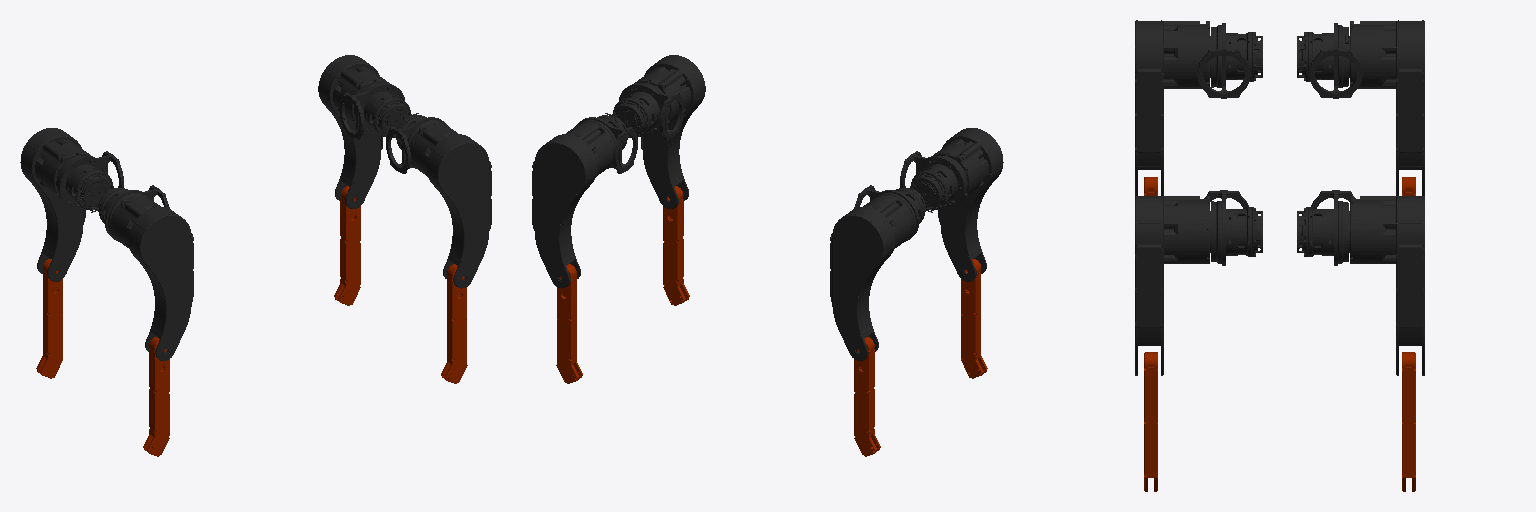
robot.urdf — tekirV3:
<?xml version="1.0" encoding="utf-8"?>
<!-- All knees looks in the same direction -->
<robot name="tekirV3">

  <material name="black">
    <color rgba="0.2 0.2 0.2 1"/>
  </material>
  <material name="auburn" >
    <color rgba="0.6039215686274509 0.18823529411764706 0.00392156862745098 1" />
  </material>
  <material name="olivedrab" >
    <color rgba="0.43529411764705883 0.4627450980392157 0.19607843137254902 1" />
  </material>
  
  <link name="torso">
	  <inertial>
     <origin xyz="0.00145 0.003271 0.01792" rpy="0 0 0"/>  <!-- 0.00145 0.003271 0.01792 -->
     <mass value="20.516"/>
     <inertia ixx="0.41"  ixy="0.003"  ixz="-0.012" iyy="0.908" iyz="0.007" izz="1.192" />
    </inertial>
    <visual>
     <origin xyz="0 0 0" rpy="0 0 0" />
     <geometry>
      <mesh filename="../mesh/torso_rs.stl" scale="0.001 0.001 0.001"/>
     </geometry>
     <material name="black"></material>
    </visual>
    <collision>
     <origin xyz="0 0 0" rpy="0 0 0"/>
     <geometry>
       <box size="0.576 0.358 0.202"/>
     </geometry>
    </collision> 
  </link>

  <!-- Leg LF -->

  <link name="HIP_FE_Motor_lf">
	  <inertial>
     <origin xyz="0.075283 -0.015862 -0.000015" rpy="0 0 0"/>
     <mass value="1.681"/>
     <inertia ixx="0.003"  ixy="9.851e-5"  ixz="-1.213e-6" iyy="0.003" iyz="-1.327e-6" izz="0.003" />
    </inertial>
	  <visual>
     <origin xyz="0.079 0 0" rpy="0 0 1.57079632679" />
     <geometry>
       <mesh filename="../mesh/actuator_hip_fe.stl" scale="0.001 0.001 0.001"/>
     </geometry>
     <material name="black"></material>
    </visual>
	  <collision>
     <origin xyz="0.079 -0.0264 0" rpy="1.57079632679 0 0"/>
     <geometry>
       <cylinder radius="0.0625" length="0.1052"/>
     </geometry>
    </collision>
  </link>

  <link name="thigh_lf">
	  <inertial>
     <origin xyz="-0.003917 0.076506 -0.013793" rpy="0 0 0"/>
     <mass value="2.005"/>
     <inertia ixx="0.008"  ixy="-1.818e-4"  ixz="5.307e-4" iyy="0.007" iyz="0.001" izz="0.004" />
    </inertial>
	  <visual>
     <origin xyz="0 0 0" rpy="0 0 0" />
     <geometry>
       <mesh filename="../mesh/thigh_L.stl" scale="0.001 0.001 0.001"/>
     </geometry>
     <material name="black"></material>
    </visual>
	  <collision>
     <origin xyz="0 0.1136015 -0.135" rpy="0 0 0"/>
     <geometry>
       <box size="0.04 0.053203 0.27"/>
     </geometry>
    </collision>
  </link>

  <link name="shank_lf">
	  <inertial>
     <origin xyz="-0.015346 -0.000102 -0.186842" rpy="0 0 0"/>
     <mass value="0.21"/>
     <inertia ixx="0.002"  ixy="-7.048e-7"  ixz="-2.682e-4" iyy="0.002" iyz="-1.088e-5" izz="1.086e-4" />
    </inertial>
	  <visual>
     <origin xyz="0 0 0" rpy="0 0 1.57079632679" />
     <geometry>
       <mesh filename="../mesh/shank.stl" scale="0.001 0.001 0.001"/>
     </geometry>
     <material name="auburn"></material>
    </visual>
	  <collision>
     <origin xyz="0 0 -0.112141" rpy="0 0 0"/>
     <geometry>
       <box size="0.04 0.026 0.224282"/> 
     </geometry>
    </collision>
    <visual>
     <origin xyz="-0.0219665 0 -0.262329" rpy="0 0.52359877559 0" />
     <geometry>
       <mesh filename="../mesh/foot.stl" scale="0.001 0.001 0.001"/>
     </geometry>
     <material name="black"></material>
    </visual>
    <collision>
     <origin xyz="-0.0400655 0 -0.293677" rpy="0 0 0"/>
     <geometry>
       <sphere radius="0.027"/>
     </geometry>
    </collision>
  </link>

  <!-- Leg RF -->

  <link name="HIP_FE_Motor_rf">
	  <inertial>
     <origin xyz="0.075283 0.015862 -0.000015" rpy="0 0 0"/>
     <mass value="1.681"/>
     <inertia ixx="0.003"  ixy="9.851e-5"  ixz="-1.213e-6" iyy="0.003" iyz="-1.327e-6" izz="0.003" />
    </inertial>
	  <visual>
     <origin xyz="0.079 0 0" rpy="3.14159265 0 -1.57079632679" />
     <geometry>
       <mesh filename="../mesh/actuator_hip_fe.stl" scale="0.001 0.001 0.001"/>
     </geometry>
     <material name="black"></material>
    </visual>
	  <collision>
     <origin xyz="0.079 0.0264 0" rpy="1.57079632679 0 0"/>
     <geometry>
       <cylinder radius="0.0625" length="0.1052"/>
     </geometry>
    </collision>
  </link>

  <link name="thigh_rf">
	  <inertial>
     <origin xyz="-0.003917 -0.076506 -0.013793" rpy="0 0 0"/>
     <mass value="2.005"/>
     <inertia ixx="0.008"  ixy="-1.818e-4"  ixz="5.307e-4" iyy="0.007" iyz="0.001" izz="0.004" />
    </inertial>
	  <visual>
     <origin xyz="0 0 0" rpy="0 0 0" />
     <geometry>
       <mesh filename="../mesh/thigh_R.stl" scale="0.001 0.001 0.001"/>
     </geometry>
     <material name="black"></material>
    </visual>
	  <collision>
     <origin xyz="0 -0.1136015 -0.135" rpy="0 0 0"/>
     <geometry>
       <box size="0.04 0.053203 0.27"/>
     </geometry>
    </collision>
  </link>

  <link name="shank_rf">
	  <inertial>
     <origin xyz="-0.015346 0.000102 -0.186842" rpy="0 0 0"/>
     <mass value="0.21"/>
     <inertia ixx="0.002"  ixy="-7.048e-7"  ixz="-2.682e-4" iyy="0.002" iyz="-1.088e-5" izz="1.086e-4" />
    </inertial>
	  <visual>
     <origin xyz="0 0 0" rpy="0 0 1.57079632679" />
     <geometry>
       <mesh filename="../mesh/shank.stl" scale="0.001 0.001 0.001"/>
     </geometry>
     <material name="auburn"></material>
    </visual>
	  <collision>
     <origin xyz="0 0 -0.112141" rpy="0 0 0"/>
     <geometry>
       <box size="0.04 0.026 0.224282"/>
     </geometry>
    </collision>
    <visual>
     <origin xyz="-0.0219665 0 -0.262329" rpy="0 0.52359877559 0" />
     <geometry>
       <mesh filename="../mesh/foot.stl" scale="0.001 0.001 0.001"/>
     </geometry>
     <material name="black"></material>
    </visual>
    <collision>
     <origin xyz="-0.0400655 0 -0.293677" rpy="0 0 0"/>
     <geometry>
       <sphere radius="0.027"/>
     </geometry>
    </collision>
  </link>

  <!-- Leg LB -->

  <link name="HIP_FE_Motor_lb">
	  <inertial>
     <origin xyz="-0.075283 -0.015862 -0.000015" rpy="0 0 0"/>
     <mass value="1.681"/>
     <inertia ixx="0.003"  ixy="9.851e-5"  ixz="-1.213e-6" iyy="0.003" iyz="-1.327e-6" izz="0.003" />
    </inertial>
	  <visual>
     <origin xyz="-0.079 0 0" rpy="0 3.14159265 -1.57079632679" />
     <geometry>
       <mesh filename="../mesh/actuator_hip_fe.stl" scale="0.001 0.001 0.001"/>
     </geometry>
     <material name="black"></material>
    </visual>
	  <collision>
     <origin xyz="-0.079 -0.0264 0" rpy="1.57079632679 0 0"/>
     <geometry>
       <cylinder radius="0.0625" length="0.1052"/>
     </geometry>
    </collision>
  </link>

  <link name="thigh_lb">
	  <inertial>
     <origin xyz="0.003917 0.076506 -0.013793" rpy="0 0 0"/>
     <mass value="2.005"/>
     <inertia ixx="0.008"  ixy="-1.818e-4"  ixz="5.307e-4" iyy="0.007" iyz="0.001" izz="0.004" />
    </inertial>
	  <visual>
     <origin xyz="0 0 0" rpy="0 0 0" />
     <geometry>
       <mesh filename="../mesh/thigh_L.stl" scale="0.001 0.001 0.001"/>
     </geometry>
     <material name="black"></material>
    </visual>
	  <collision>
     <origin xyz="0 0.1136015 -0.135" rpy="0 0 0"/>
     <geometry>
       <box size="0.04 0.053203 0.27"/>
     </geometry>
    </collision>
  </link>

  <link name="shank_lb">
	  <inertial>
     <origin xyz="-0.015346 -0.000102 -0.186842" rpy="0 0 0"/>
     <mass value="0.21"/>
     <inertia ixx="0.002"  ixy="-7.048e-7"  ixz="-2.682e-4" iyy="0.002" iyz="-1.088e-5" izz="1.086e-4" />
    </inertial>
	  <visual>
     <origin xyz="0 0 0" rpy="0 0 1.57079632679" />
     <geometry>
       <mesh filename="../mesh/shank.stl" scale="0.001 0.001 0.001"/>
     </geometry>
     <material name="auburn"></material>
    </visual>
	  <collision>
     <origin xyz="0 0 -0.112141" rpy="0 0 0"/>
     <geometry>
       <box size="0.04 0.026 0.224282"/>
     </geometry>
    </collision>
    <visual>
     <origin xyz="-0.0219665 0 -0.262329" rpy="0 0.52359877559 0" />
     <geometry>
       <mesh filename="../mesh/foot.stl" scale="0.001 0.001 0.001"/>
     </geometry>
     <material name="black"></material>
    </visual>
    <collision>
     <origin xyz="-0.0400655 0 -0.293677" rpy="0 0 0"/>
     <geometry>
       <sphere radius="0.027"/>
     </geometry>
    </collision>
  </link>

  <!-- Leg RB -->

  <link name="HIP_FE_Motor_rb">
	  <inertial>
     <origin xyz="-0.075283 0.015862 -0.000015" rpy="0 0 0"/>
     <mass value="1.681"/>
     <inertia ixx="0.003"  ixy="9.851e-5"  ixz="-1.213e-6" iyy="0.003" iyz="-1.327e-6" izz="0.003" />
    </inertial>
	  <visual>
     <origin xyz="-0.079 0 0" rpy="0 0 -1.57079632679" />
     <geometry>
       <mesh filename="../mesh/actuator_hip_fe.stl" scale="0.001 0.001 0.001"/>
     </geometry>
     <material name="black"></material>
    </visual>
	  <collision>
     <origin xyz="-0.079 0.0264 0" rpy="1.57079632679 0 0"/>
     <geometry>
       <cylinder radius="0.0625" length="0.1052"/>
     </geometry>
    </collision>
  </link>

  <link name="thigh_rb">
	  <inertial>
     <origin xyz="0.003917 -0.076506 -0.013793" rpy="0 0 0"/>
     <mass value="2.005"/>
     <inertia ixx="0.008"  ixy="-1.818e-4"  ixz="5.307e-4" iyy="0.007" iyz="0.001" izz="0.004" />
    </inertial>
	  <visual>
     <origin xyz="0 0 0" rpy="0 0 0" />
     <geometry>
       <mesh filename="../mesh/thigh_R.stl" scale="0.001 0.001 0.001"/>
     </geometry>
     <material name="black"></material>
    </visual>
	  <collision>
     <origin xyz="0 -0.1136015 -0.135" rpy="0 0 0"/>
     <geometry>
       <box size="0.04 0.053203 0.27"/>
     </geometry>
    </collision>
  </link>
  
  <link name="shank_rb">
	  <inertial>
     <origin xyz="-0.015346 0.000102 -0.186842" rpy="0 0 0"/>
     <mass value="0.21"/>
     <inertia ixx="0.002"  ixy="-7.048e-7"  ixz="-2.682e-4" iyy="0.002" iyz="-1.088e-5" izz="1.086e-4" />
    </inertial>
	  <visual>
     <origin xyz="0 0 0" rpy="0 0 1.57079632679" />
     <geometry>
       <mesh filename="../mesh/shank.stl" scale="0.001 0.001 0.001"/>
     </geometry>
     <material name="auburn"></material>
    </visual>
	  <collision>
     <origin xyz="0 0 -0.112141" rpy="0 0 0"/>
     <geometry>
       <box size="0.04 0.026 0.224282"/>
     </geometry>
    </collision>
    <visual>
     <origin xyz="-0.0219665 0 -0.262329" rpy="0 0.52359877559 0" />
     <geometry>
       <mesh filename="../mesh/foot.stl" scale="0.001 0.001 0.001"/>
     </geometry>
     <material name="black"></material>
    </visual>
    <collision>
     <origin xyz="-0.0400655 0 -0.293677" rpy="0 0 0"/>
     <geometry>
       <sphere radius="0.027"/>
     </geometry>
    </collision>
  </link>

  
  <!-- Joints -->

  <!-- LEG LF -->

  <joint name="Joint_HIP_AA_lf" type="revolute">
    <parent link="torso"/>
    <child link="HIP_FE_Motor_lf"/>
    <axis xyz="1 0 0"/>
    <origin xyz="0.3102 0.105 0.002" rpy="0 0 0"/>
    <limit effort="50" lower="0" upper="0" velocity="8.29031393750349"/>
    <dynamics damping="0.0" friction="0.0"/>
  </joint>

  <joint name="Joint_HIP_FE_lf" type="revolute">
    <parent link="HIP_FE_Motor_lf"/>
    <child link="thigh_lf"/>
    <axis xyz="0 1 0"/>
    <origin xyz="0.079 0.0262 0" rpy="0 0 0"/>
    <limit effort="50" lower="0" upper="0" velocity="8.29031393750349"/>
    <dynamics damping="0.0" friction="0.0"/>
  </joint>

  <joint name="Joint_KNEE_FE_lf" type="revolute">
    <parent link="thigh_lf"/>
    <child link="shank_lf"/>
    <axis xyz="0 1 0"/>
    <origin xyz="0 0.1102 -0.27" rpy="0 0 0"/>
    <limit effort="50" lower="0" upper="0" velocity="8.29031393750349"/>
    <dynamics damping="0.0" friction="0.0"/>
  </joint>

  <!-- LEG RF -->

  <joint name="Joint_HIP_AA_rf" type="revolute">
    <parent link="torso"/>
    <child link="HIP_FE_Motor_rf"/>
    <axis xyz="1 0 0"/>
    <origin xyz="0.3102 -0.105 0.002" rpy="0 0 0"/>
    <limit effort="50" lower="0" upper="0" velocity="8.29031393750349"/>
    <dynamics damping="0.0" friction="0.0"/>
  </joint>

  <joint name="Joint_HIP_FE_rf" type="revolute">
    <parent link="HIP_FE_Motor_rf"/>
    <child link="thigh_rf"/>
    <axis xyz="0 -1 0"/>
    <origin xyz="0.079 -0.0262 0" rpy="0 0 0"/>
    <limit effort="50" lower="0" upper="0" velocity="8.29031393750349"/>
    <dynamics damping="0.0" friction="0.0"/>
  </joint>

  <joint name="Joint_KNEE_FE_rf" type="revolute">
    <parent link="thigh_rf"/>
    <child link="shank_rf"/>
    <axis xyz="0 -1 0"/>
    <origin xyz="0 -0.1102 -0.27" rpy="0 0 0"/>
    <limit effort="50" lower="0" upper="0" velocity="8.29031393750349"/>
    <dynamics damping="0.0" friction="0.0"/>
  </joint>

  <!-- LEG LB -->

  <joint name="Joint_HIP_AA_lb" type="revolute">
    <parent link="torso"/>
    <child link="HIP_FE_Motor_lb"/>
    <axis xyz="-1 0 0"/>
    <origin xyz="-0.3102 0.105 0.002" rpy="0 0 0"/>
    <limit effort="50" lower="0" upper="0" velocity="8.29031393750349"/>
    <dynamics damping="0.0" friction="0.0"/>
  </joint>

  <joint name="Joint_HIP_FE_lb" type="revolute">
    <parent link="HIP_FE_Motor_lb"/>
    <child link="thigh_lb"/>
    <axis xyz="0 1 0"/>
    <origin xyz="-0.079 0.0262 0" rpy="0 0 0"/>
    <limit effort="50" lower="0" upper="0" velocity="8.29031393750349"/>
    <dynamics damping="0.0" friction="0.0"/>
  </joint>

  <joint name="Joint_KNEE_FE_lb" type="revolute">
    <parent link="thigh_lb"/>
    <child link="shank_lb"/>
    <axis xyz="0 1 0"/>
    <origin xyz="0 0.1102 -0.27" rpy="0 0 0"/>
    <limit effort="50" lower="0" upper="0" velocity="8.29031393750349"/>
    <dynamics damping="0.0" friction="0.0"/>
  </joint>

  <!-- LEG RB -->
  
  <joint name="Joint_HIP_AA_rb" type="revolute">
    <parent link="torso"/>
    <child link="HIP_FE_Motor_rb"/>
    <axis xyz="-1 0 0"/>
    <origin xyz="-0.3102 -0.105 0.002" rpy="0 0 0"/>
    <limit effort="50" lower="0" upper="0" velocity="8.29031393750349"/>
    <dynamics damping="0.0" friction="0.0"/>
  </joint>

  <joint name="Joint_HIP_FE_rb" type="revolute">
    <parent link="HIP_FE_Motor_rb"/>
    <child link="thigh_rb"/>
    <axis xyz="0 -1 0"/>
    <origin xyz="-0.079 -0.0262 0" rpy="0 0 0"/>
    <limit effort="50" lower="0" upper="0" velocity="8.29031393750349"/>
    <dynamics damping="0.0" friction="0.0"/>
  </joint>  
  
  <joint name="Joint_KNEE_FE_rb" type="revolute">
    <parent link="thigh_rb"/>
    <child link="shank_rb"/>
    <axis xyz="0 -1 0"/>
    <origin xyz="0 -0.1102 -0.27" rpy="0 0 0"/>
    <limit effort="50" lower="0" upper="0" velocity="8.29031393750349"/>
    <dynamics damping="0.0" friction="0.0"/>
  </joint>

</robot>

--- Render facts (derived) ---
Views: 3 orthographic renders of the robot side by side, from view 1: azimuth 30°, elevation 25°; view 2: azimuth 150°, elevation 25°; view 3: azimuth 270°, elevation 25°.
Robot: tekirV3 — 13 links, 12 joints (12 revolute); root link torso; default pose: every joint at zero.
Visible links, largest first — view 1: thigh_rf, thigh_rb, thigh_lb, thigh_lf, HIP_FE_Motor_lf, HIP_FE_Motor_lb, shank_rb, shank_lf, shank_rf, shank_lb, HIP_FE_Motor_rf, HIP_FE_Motor_rb; view 2: thigh_lf, thigh_lb, thigh_rb, thigh_rf, HIP_FE_Motor_rf, HIP_FE_Motor_rb, shank_lb, shank_rf, shank_lf, shank_rb, HIP_FE_Motor_lf, HIP_FE_Motor_lb; view 3: thigh_lf, thigh_rf, thigh_lb, thigh_rb, HIP_FE_Motor_rb, HIP_FE_Motor_lb, HIP_FE_Motor_rf, HIP_FE_Motor_lf, shank_lf, shank_rf.
Boxes of the visible links, bbox=[...] form: thigh_rf: bbox=[410, 123, 491, 288]; thigh_rb: bbox=[113, 196, 193, 360]; thigh_lb: bbox=[20, 128, 92, 281]; thigh_lf: bbox=[318, 55, 389, 208]; HIP_FE_Motor_lf: bbox=[339, 83, 418, 140]; HIP_FE_Motor_lb: bbox=[56, 151, 123, 210]; shank_rb: bbox=[143, 337, 169, 456]; shank_lf: bbox=[334, 186, 360, 305]; shank_rf: bbox=[441, 264, 467, 383]; shank_lb: bbox=[36, 259, 62, 378]; HIP_FE_Motor_rf: bbox=[386, 115, 447, 173]; HIP_FE_Motor_rb: bbox=[91, 185, 169, 241]; thigh_lf: bbox=[532, 123, 613, 288]; thigh_lb: bbox=[830, 196, 910, 360]; thigh_rb: bbox=[931, 128, 1003, 281]; thigh_rf: bbox=[634, 55, 705, 208]; HIP_FE_Motor_rf: bbox=[605, 83, 684, 140]; HIP_FE_Motor_rb: bbox=[900, 151, 967, 210]; shank_lb: bbox=[854, 337, 880, 456]; shank_rf: bbox=[663, 186, 689, 305]; shank_lf: bbox=[556, 264, 582, 383]; shank_rb: bbox=[961, 259, 987, 378]; HIP_FE_Motor_lf: bbox=[576, 115, 637, 173]; HIP_FE_Motor_lb: bbox=[854, 185, 932, 241]; thigh_lf: bbox=[1350, 196, 1424, 375]; thigh_rf: bbox=[1135, 196, 1209, 375]; thigh_lb: bbox=[1350, 20, 1424, 195]; thigh_rb: bbox=[1135, 20, 1209, 195]; HIP_FE_Motor_rb: bbox=[1197, 23, 1262, 98]; HIP_FE_Motor_lb: bbox=[1297, 23, 1362, 98]; HIP_FE_Motor_rf: bbox=[1204, 190, 1262, 265]; HIP_FE_Motor_lf: bbox=[1297, 190, 1355, 265]; shank_lf: bbox=[1402, 352, 1415, 491]; shank_rf: bbox=[1144, 352, 1157, 491].
Size in the robot's own frame: 0.9194 by 0.5428 by 0.6078 metres.
Meshes: 6 distinct files referenced, 12 mesh visuals loaded (4 binary STL); not drawn: 5 (reference not matched to a file when rendering).
